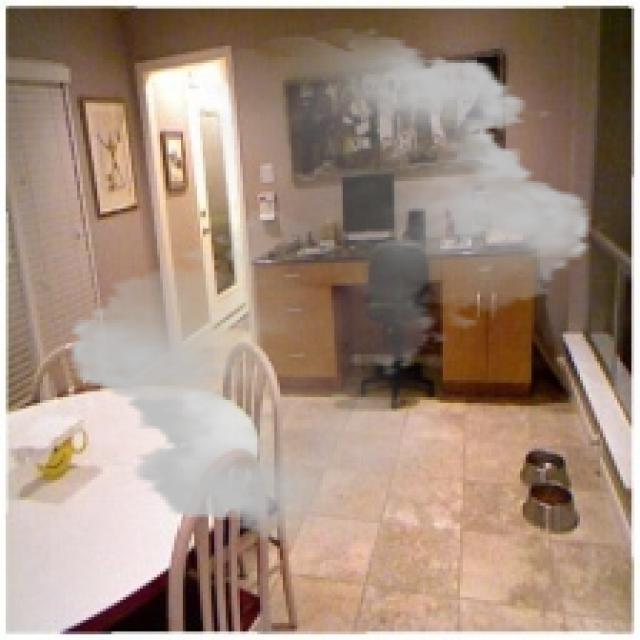Smoke: (51, 29, 608, 548)
